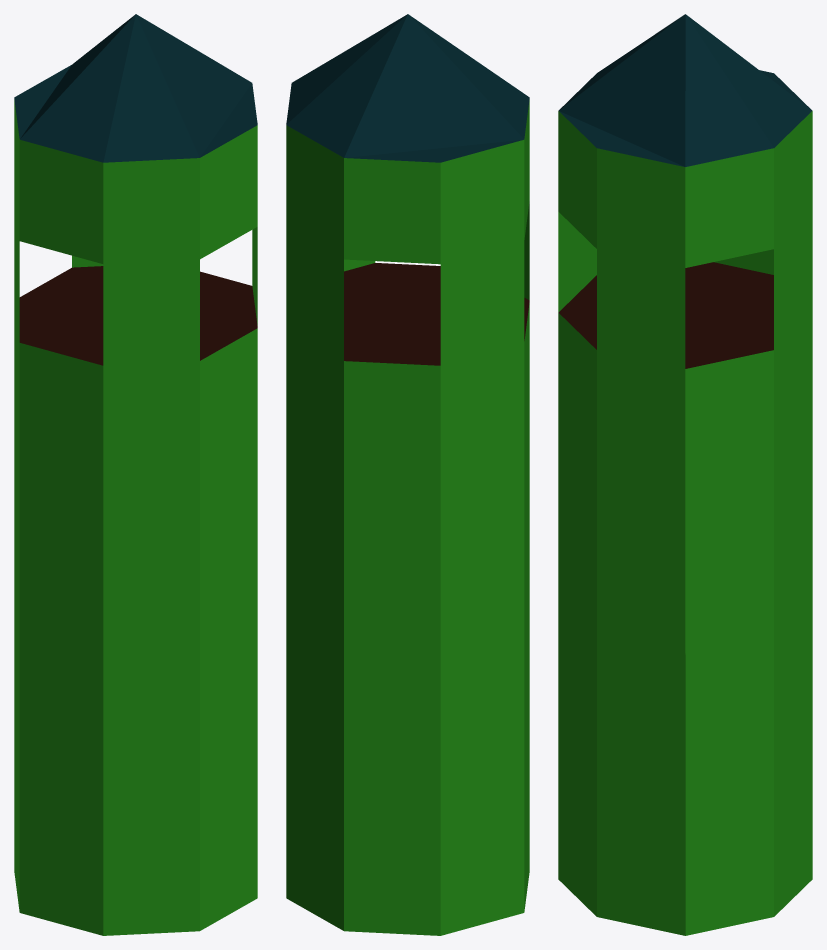
Rendered from archerytower1f.obj.
3 renders of one model, left to right at view 1: azimuth 30°, elevation 25°; view 2: azimuth 150°, elevation 25°; view 3: azimuth 270°, elevation 25°, orthographic.
Visible parts, largest first — view 1: Cube; view 2: Cube; view 3: Cube.
Boxes of the visible parts, x1,y1,x2,y2 form: Cube: [14, 14, 257, 935]; Cube: [286, 14, 529, 935]; Cube: [558, 14, 812, 935].
Bounding box in the file's own units: 3.01 × 10.77 × 2.87.
